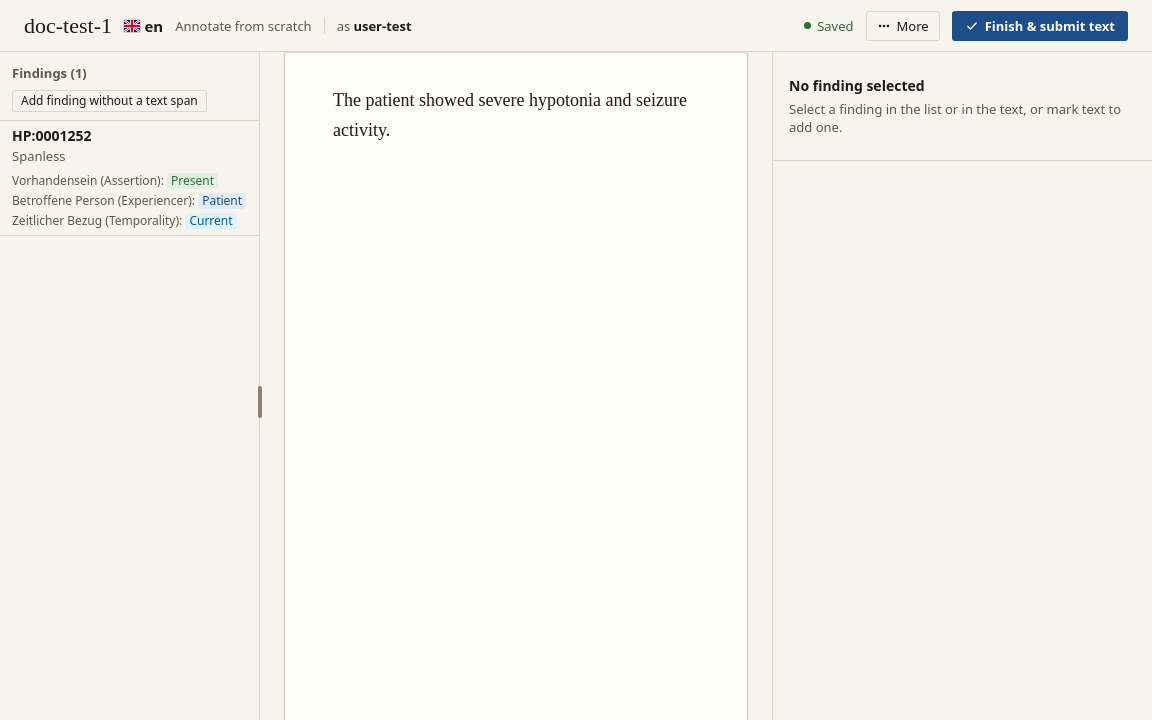
Test case: CaseScreen integration › submit with unconfirmed values › sends no acknowledgement when no rows remain
This screenshot has width=1152, height=720.
Click the button "Finish & submit text".
click(1040, 26)  # box [952,10,1128,40]
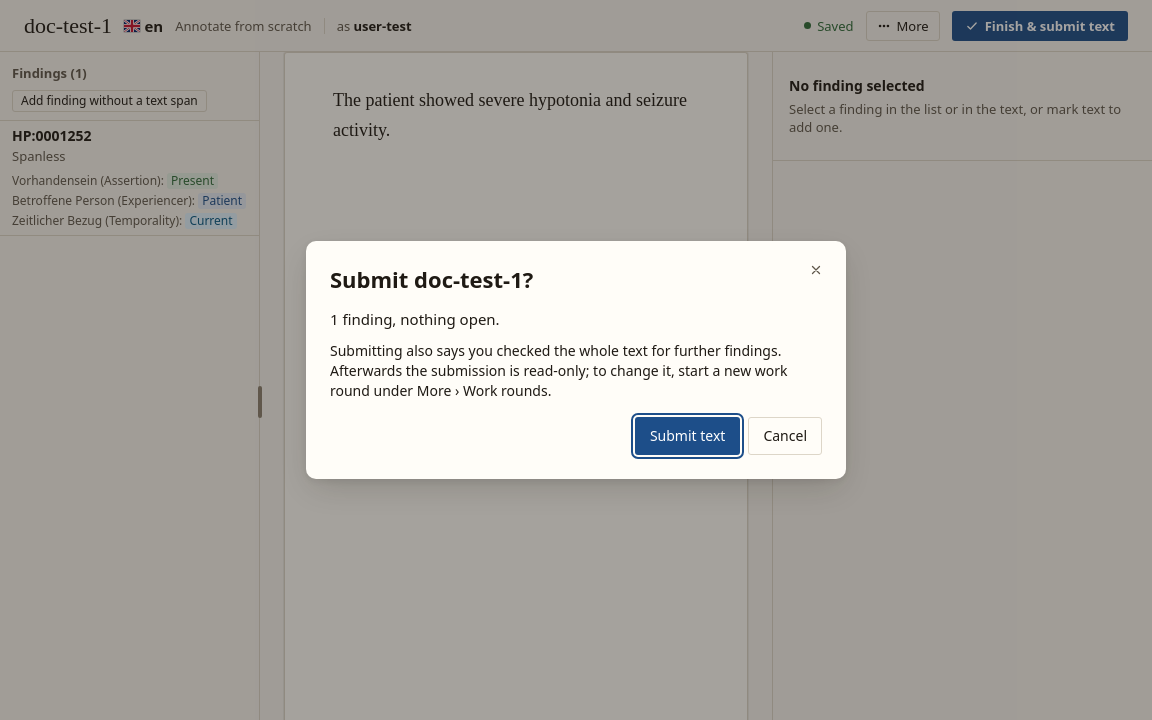
Click the button "Submit text".
click(688, 436)  # box [635,417,740,455]
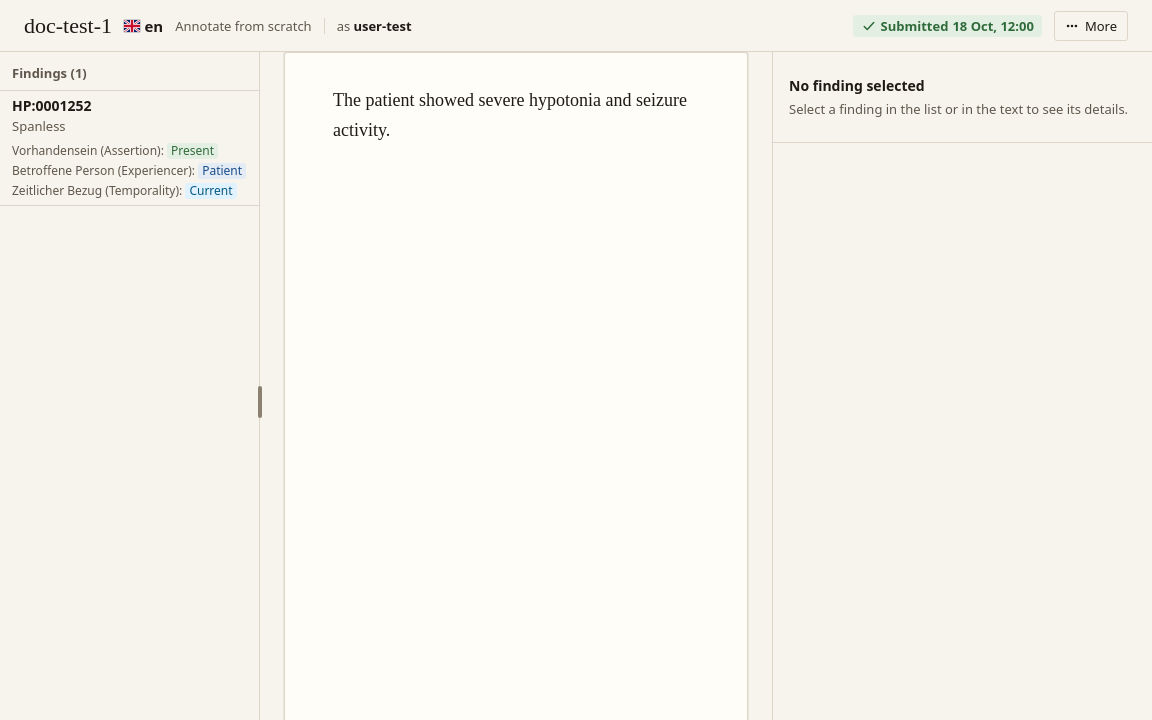
Now the text "Submitted 18 Oct, 12:00" is shown, box [852,14,1042,36]
